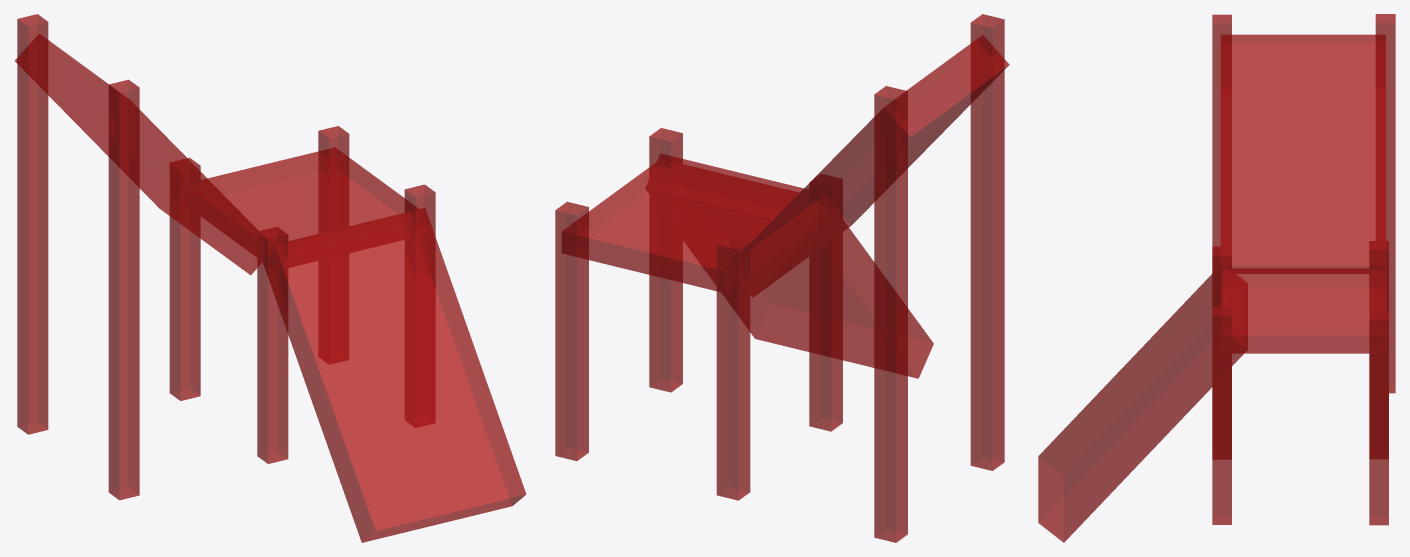
File: SM_Bld_House_Stairs_Tall_01_Collision.fbx
3 renders of one model, left to right at view 1: azimuth 30°, elevation 25°; view 2: azimuth 150°, elevation 25°; view 3: azimuth 270°, elevation 25°, orthographic. The views are drawn at different scales.
Visible parts, largest first — view 1: SM_Bld_House_Stairs_Tall_01_Collision; view 2: SM_Bld_House_Stairs_Tall_01_Collision; view 3: SM_Bld_House_Stairs_Tall_01_Collision.
Boxes of the visible parts, <box> form: SM_Bld_House_Stairs_Tall_01_Collision: <box>15,14,526,542</box>; SM_Bld_House_Stairs_Tall_01_Collision: <box>555,14,1009,542</box>; SM_Bld_House_Stairs_Tall_01_Collision: <box>1038,14,1395,542</box>.
Size of the model in its own units: 261 by 329 by 273.
